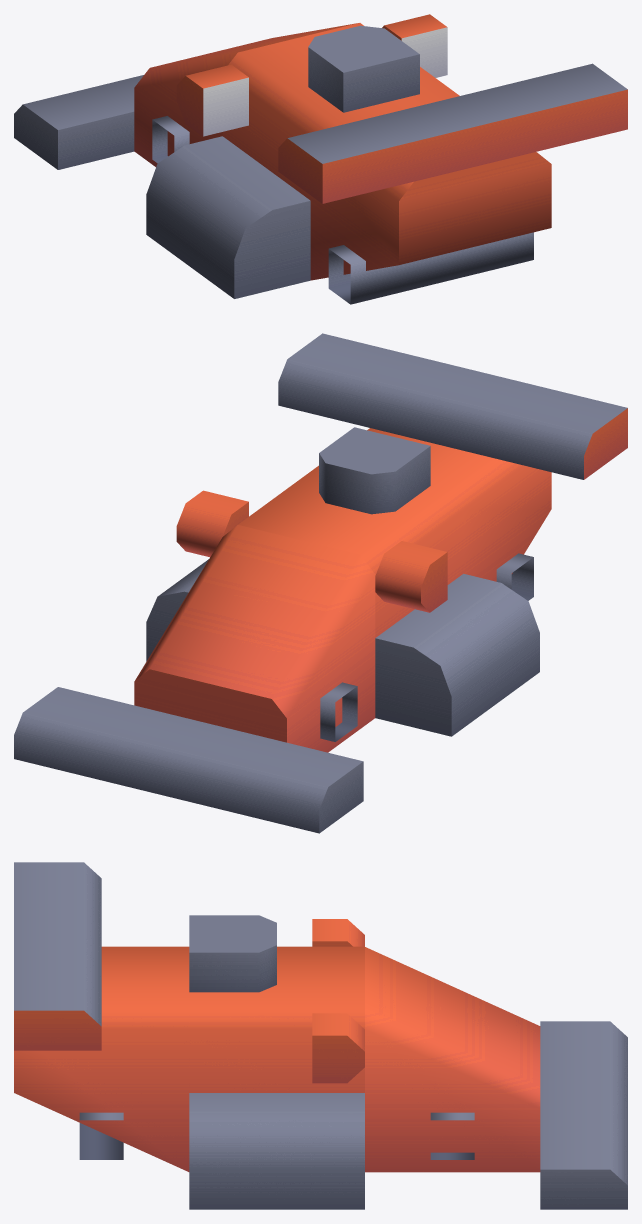
The model's file is vehicle-speedster.glb.
The picture shows the model from 3 angles, top to bottom: view 1: azimuth 30°, elevation 25°; view 2: azimuth 150°, elevation 25°; view 3: azimuth 270°, elevation 25°; orthographic projection.
Parts seen in each view (by area): view 1: vehicle-speedster; view 2: vehicle-speedster; view 3: vehicle-speedster.
Part boxes in pixels (x1,y1,x2,y2): vehicle-speedster: (14,14,627,304); vehicle-speedster: (14,333,627,833); vehicle-speedster: (14,862,627,1209).
Bounding box in the file's own units: 1.5 × 1.12 × 2.63.
Materials: 1 (1 with a texture image).
